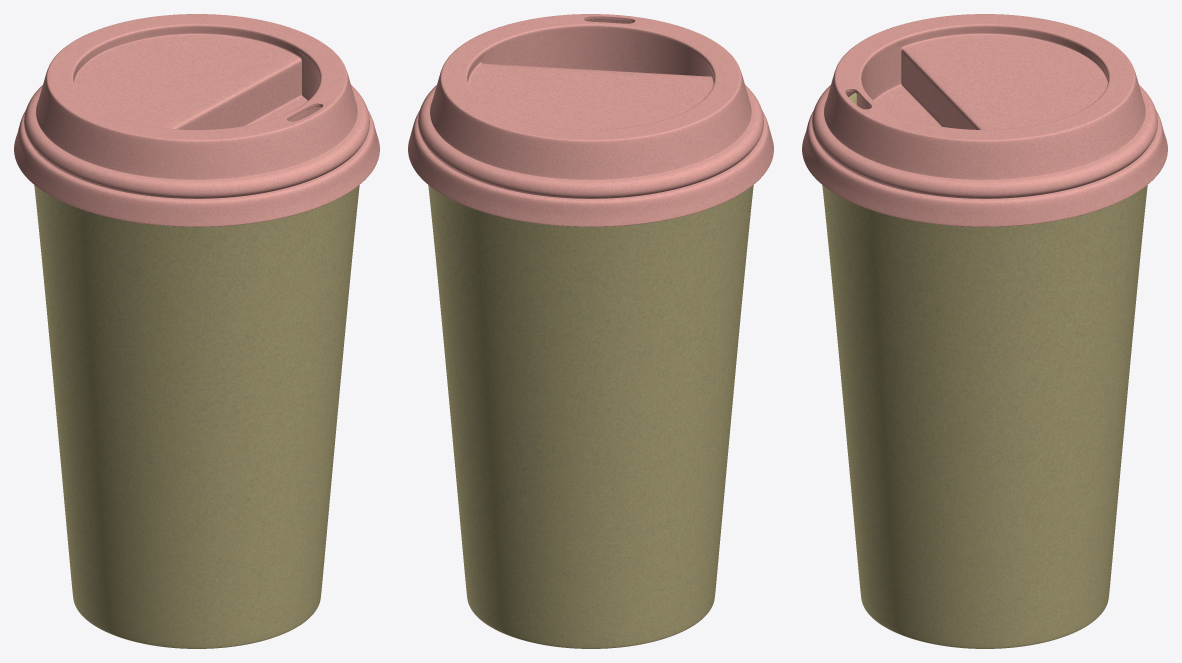
File: vasoconfigurado.glb
The picture shows the model from 3 angles, left to right: view 1: azimuth 30°, elevation 25°; view 2: azimuth 150°, elevation 25°; view 3: azimuth 270°, elevation 25°; orthographic projection.
Visible parts, largest first — view 1: tapa, cuerpo; view 2: tapa, cuerpo; view 3: tapa, cuerpo.
Boxes of the visible parts, bbox=[...] form: tapa: bbox=[34, 185, 359, 648]; cuerpo: bbox=[14, 14, 379, 226]; tapa: bbox=[428, 185, 753, 648]; cuerpo: bbox=[408, 14, 773, 226]; tapa: bbox=[822, 93, 1147, 648]; cuerpo: bbox=[802, 14, 1167, 226].
Bounding box in the file's own units: 1.27 × 2 × 1.27.
Materials: 2 (2 with a texture image).
